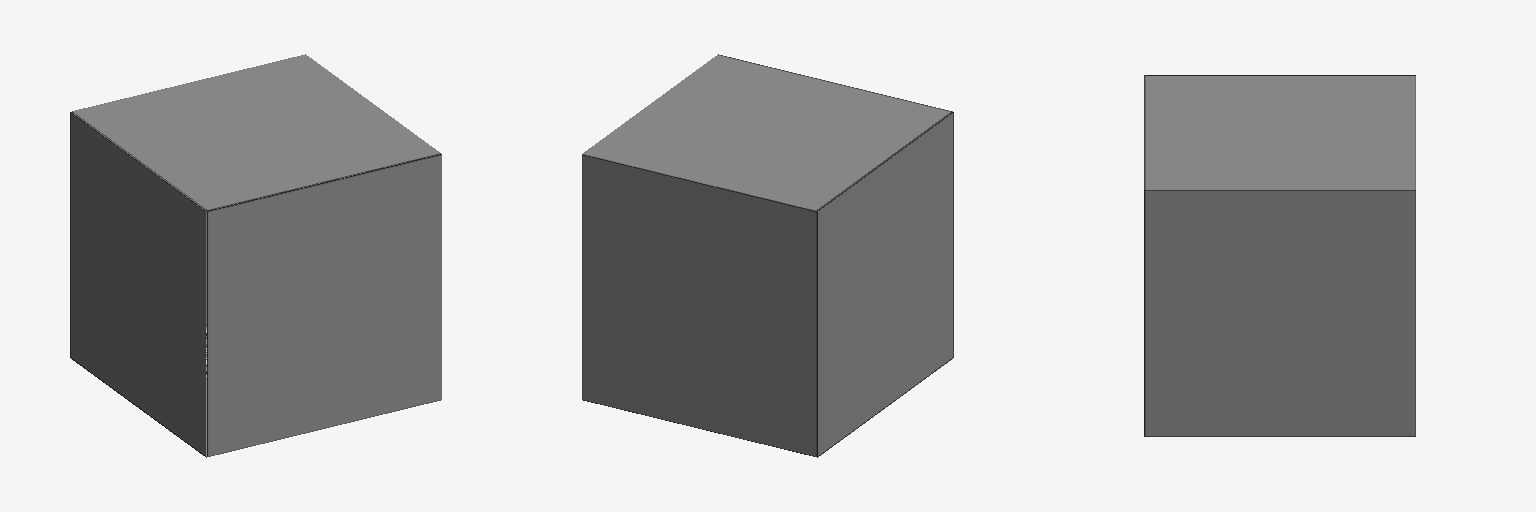
3 views of the same model, side by side, from view 1: azimuth 30°, elevation 25°; view 2: azimuth 150°, elevation 25°; view 3: azimuth 270°, elevation 25° (orthographic).
Parts seen in each view (by area): view 1: Cube; view 2: Cube; view 3: Cube.
Boxes of the visible parts, x1,y1,x2,y2 form: Cube: [70, 54, 441, 457]; Cube: [582, 54, 953, 457]; Cube: [1144, 75, 1415, 436].
Size of the model in its own units: 0.08 by 0.08 by 0.08.
Materials: 1 (1 with a texture image).